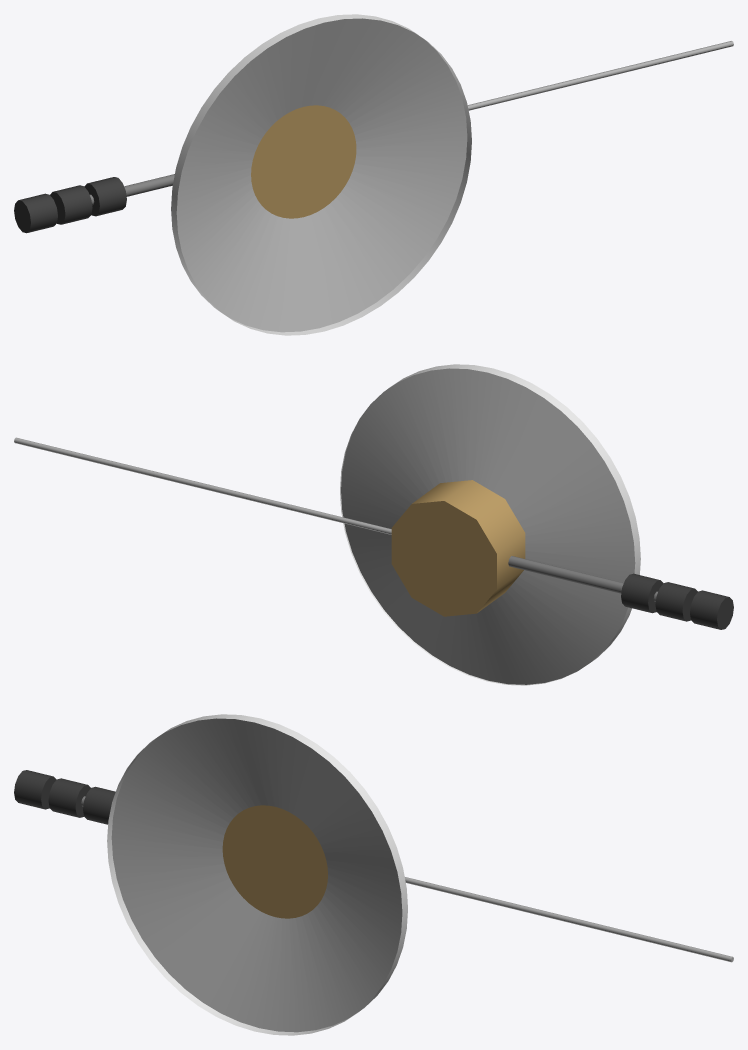
File: voyager.glb
3 renders of one model, top to bottom at view 1: azimuth 30°, elevation 25°; view 2: azimuth 150°, elevation 25°; view 3: azimuth 330°, elevation 25°, orthographic.
Visible parts, largest first — view 1: voyager; view 2: voyager; view 3: voyager.
Part boxes in pixels (box(x1,y1,x2,y2)): voyager: box(14, 14, 733, 335); voyager: box(14, 364, 733, 685); voyager: box(14, 714, 733, 1035).
Bounding box in the file's own units: 5.77 × 2.4 × 0.69.
